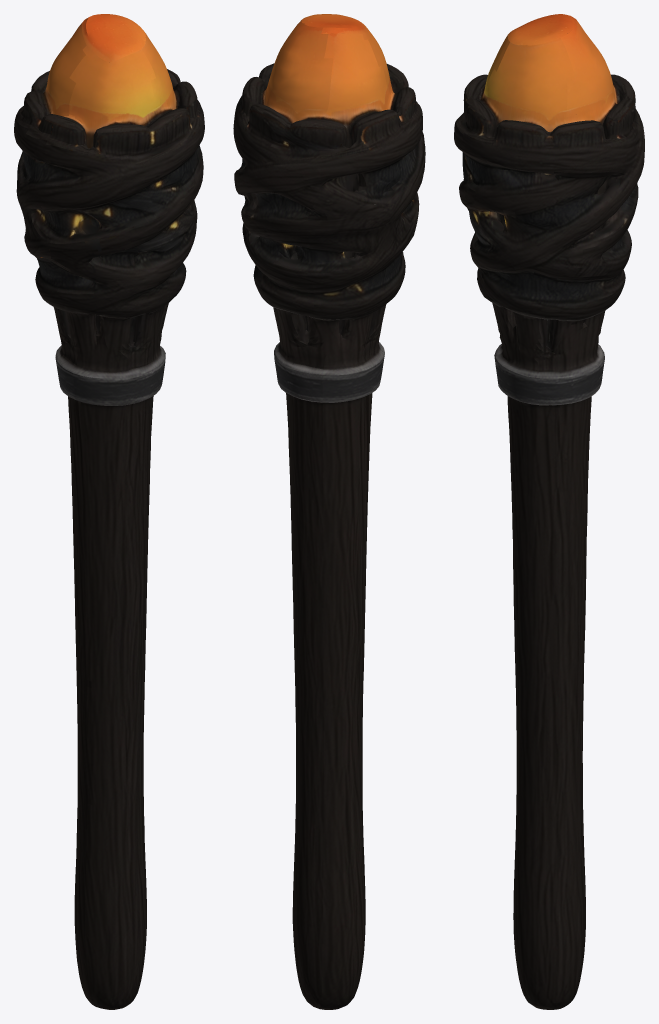
Rendered from torch.glb.
3 views of the same model, side by side, from view 1: azimuth 30°, elevation 25°; view 2: azimuth 150°, elevation 25°; view 3: azimuth 270°, elevation 25° (orthographic).
Bounding box in the file's own units: 0.3342 × 1.9 × 0.3341.
Materials: 1 (1 with a texture image).
